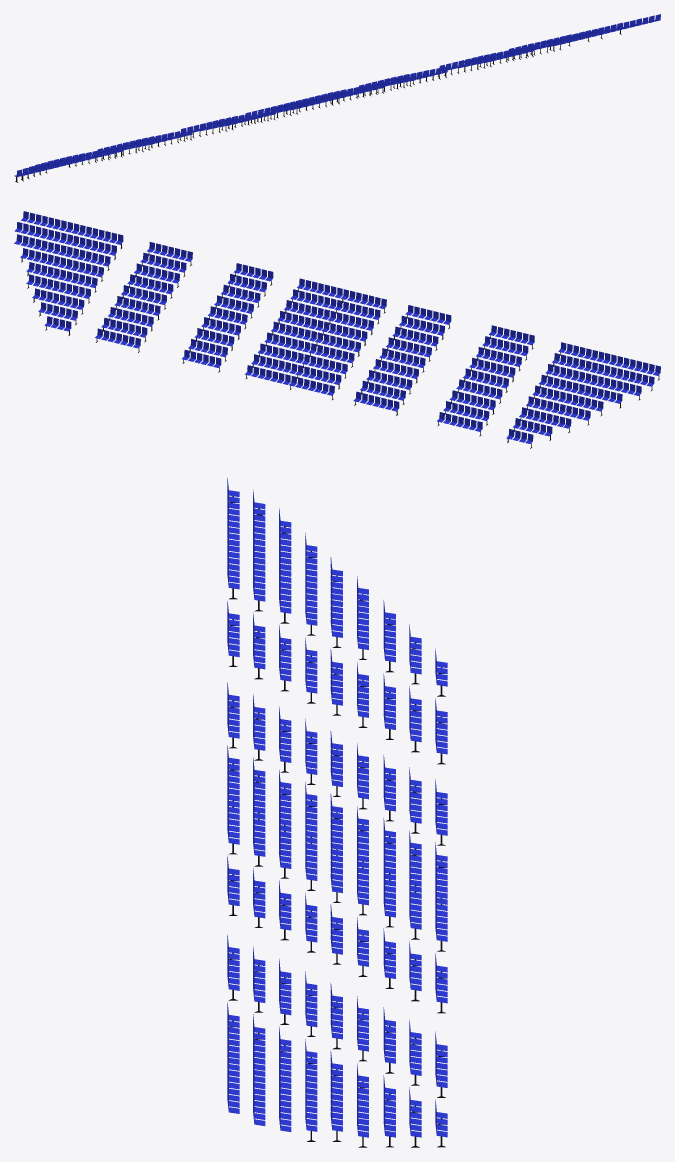
The model's file is Stand_C_Chairs.FBX.
The picture shows the model from 3 angles, top to bottom: view 1: azimuth 30°, elevation 25°; view 2: azimuth 150°, elevation 25°; view 3: azimuth 270°, elevation 25°; orthographic projection. The views are drawn at different scales.
Visible parts, largest first — view 1: Stand_C_Chair_68, Stand_C_Chair_136, Stand_C_Chair_113, Stand_C_Chair_24, Stand_C_Chair_03, Stand_C_Chair_47, Stand_C_Chair_67, Stand_C_Chair_159, Stand_C_Chair_02, Stand_C_Chair_160; view 2: Stand_C_Chair_184, Stand_C_Chair_188, Stand_C_Chair_114, Stand_C_Chair_113, Stand_C_Chair_24, Stand_C_Chair_69, Stand_C_Chair_25, Stand_C_Chair_185, Stand_C_Chair_68, Stand_C_Chair_190, Stand_C_Chair_137, Stand_C_Chair_136 (+16 smaller); view 3: Stand_C_Chair_188, Stand_C_Chair_185, Stand_C_Chair_184, Stand_C_Chair_191, Stand_C_Chair_113, Stand_C_Chair_159, Stand_C_Chair_136, Stand_C_Chair_24, Stand_C_Chair_67, Stand_C_Chair_137, Stand_C_Chair_25, Stand_C_Chair_114 (+16 smaller).
Boxes of the visible parts, <box> form: Stand_C_Chair_68: <box>282,92,340,116</box>; Stand_C_Chair_136: <box>134,128,192,153</box>; Stand_C_Chair_113: <box>217,108,276,132</box>; Stand_C_Chair_24: <box>476,45,534,69</box>; Stand_C_Chair_03: <box>545,28,604,53</box>; Stand_C_Chair_47: <box>395,66,447,89</box>; Stand_C_Chair_67: <box>328,81,384,99</box>; Stand_C_Chair_159: <box>67,145,123,162</box>; Stand_C_Chair_02: <box>592,17,648,34</box>; Stand_C_Chair_160: <box>22,156,79,173</box>; Stand_C_Chair_184: <box>353,370,412,415</box>; Stand_C_Chair_188: <box>95,307,153,352</box>; Stand_C_Chair_114: <box>373,337,431,383</box>; Stand_C_Chair_113: <box>392,305,451,350</box>; Stand_C_Chair_24: <box>134,242,192,287</box>; Stand_C_Chair_69: <box>308,321,367,367</box>; Stand_C_Chair_25: <box>114,274,173,320</box>; Stand_C_Chair_185: <box>437,390,495,436</box>; Stand_C_Chair_68: <box>328,289,386,334</box>; Stand_C_Chair_190: <box>289,354,347,399</box>; Stand_C_Chair_137: <box>456,357,515,403</box>; Stand_C_Chair_136: <box>476,325,534,370</box>; Stand_C_Chair_188: <box>383,1007,447,1097</box>; Stand_C_Chair_185: <box>383,673,447,764</box>; Stand_C_Chair_184: <box>383,755,447,845</box>; Stand_C_Chair_191: <box>383,861,447,951</box>; Stand_C_Chair_113: <box>227,682,291,772</box>; Stand_C_Chair_159: <box>227,533,291,623</box>; Stand_C_Chair_136: <box>227,601,291,691</box>; Stand_C_Chair_24: <box>227,934,291,1024</box>; Stand_C_Chair_67: <box>227,788,291,878</box>; Stand_C_Chair_137: <box>305,637,368,727</box>; Stand_C_Chair_25: <box>305,971,368,1061</box>; Stand_C_Chair_114: <box>305,719,368,809</box>.
Bounding box in the file's own units: 55205 × 5052 × 8257.
